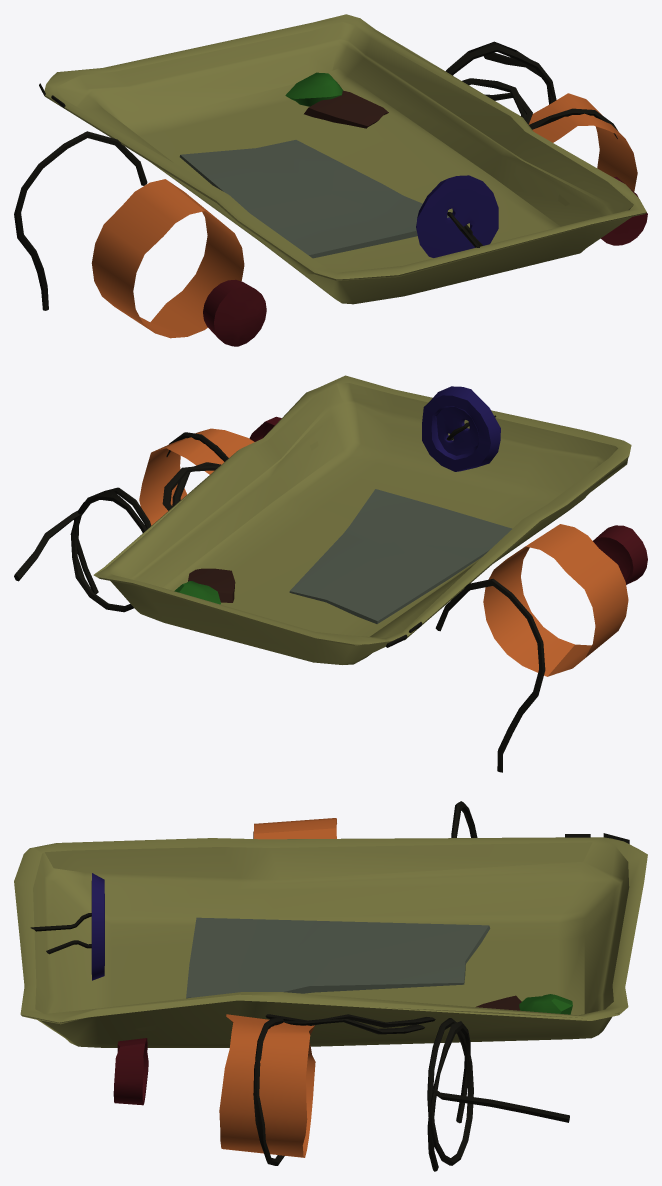
Rendered from RatBoat_Opaque.fbx.
The picture shows the model from 3 angles, top to bottom: view 1: azimuth 30°, elevation 25°; view 2: azimuth 150°, elevation 25°; view 3: azimuth 270°, elevation 25°; orthographic projection. The views are drawn at different scales.
Parts seen in each view (by area): view 1: RatBoat_Opaque; view 2: RatBoat_Opaque; view 3: RatBoat_Opaque.
Part boxes in pixels (<box>): RatBoat_Opaque: <box>14,14,647,346</box>; RatBoat_Opaque: <box>14,375,647,772</box>; RatBoat_Opaque: <box>14,801,647,1171</box>.
Size of the model in its own units: 275 by 108 by 267.
